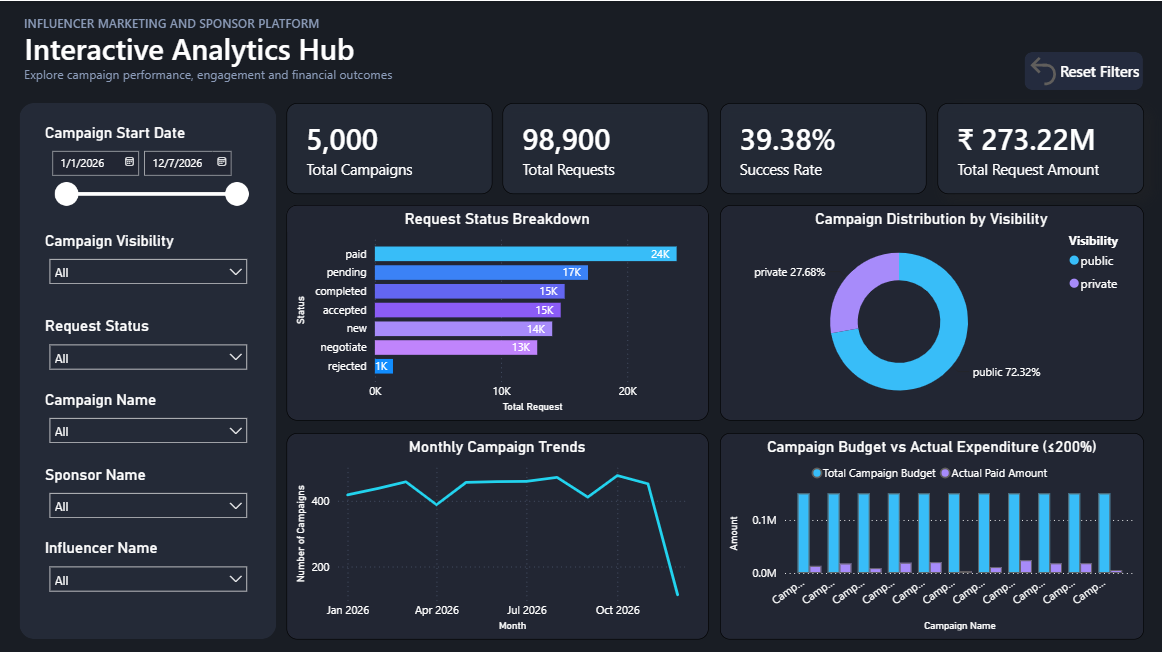

The page's visual inventory and layout, read from the dashboard file:
{"tool":"powerbi","page":{"name":"  Interactive Analytics Hub","canvas":[1280,720],"ordinal":4},"visuals":[{"type":"textbox","box":[0,25,398.3,53.3],"z":0},{"type":"textbox","box":[21.7,10,376.7,28.3],"z":1000},{"type":"textbox","box":[21.7,66.7,426.7,63.3],"z":2000},{"type":"cardVisual","fields":{"Data":["Measure.Hub Success Rate"]},"box":[790,111.7,226.7,100],"z":3000},{"type":"cardVisual","fields":{"Data":["Measure.Hub Total Requests"]},"box":[551.7,111.7,226,100],"z":4000},{"type":"cardVisual","fields":{"Data":["Measure.Hub Request Value"]},"box":[1028.3,111.7,226.7,100],"z":5000},{"type":"cardVisual","fields":{"Data":["Measure.Total Campaigns"]},"box":[315,111.7,226,100],"z":6000},{"type":"shape","box":[21.7,111.7,281.7,588.3],"z":7000},{"type":"slicer","title":"Campaign Start Date","fields":{"Values":["dim_campaigns.start_date"]},"box":[45,130,236.7,98.3],"z":8001},{"type":"slicer","title":"Campaign Visibility","fields":{"Values":["dim_campaigns.visibility"]},"box":[45,248.3,236.7,81.7],"z":8002},{"type":"slicer","title":"Request Status","fields":{"Values":["fact_ad_request.status"]},"box":[45,341.7,236.7,81.7],"z":8003},{"type":"slicer","title":"Campaign Name","fields":{"Values":["dim_campaigns.name"]},"box":[45,423.3,236.7,81.7],"z":8004},{"type":"slicer","title":"Sponsor Name","fields":{"Values":["dim_user.username"]},"box":[45,505,236.7,81.7],"z":8005},{"type":"slicer","title":"Influencer Name","fields":{"Values":["Influencer Slicer.username"]},"box":[45,586.7,236.7,81.7],"z":8006},{"type":"clusteredBarChart","title":"Request Status Breakdown","fields":{"Category":["fact_ad_request.status"],"Y":["Measure.Total Requests"]},"box":[315,223.3,463.3,236.7],"z":8007},{"type":"donutChart","title":"Campaign Distribution by Visibility","fields":{"Category":["dim_campaigns.visibility"],"Y":["CountNonNull(dim_campaigns.campaign_id)"]},"box":[790,223.3,465,236.7],"z":8008},{"type":"lineChart","title":"Monthly Campaign Trends","fields":{"Category":["dim_campaigns.start_date.Variation.Date Hierarchy.Year","dim_campaigns.start_date.Variation.Date Hierarchy.Month"],"Y":["Measure.Total Campaigns"]},"box":[315,473.3,463.3,226.7],"z":8009},{"type":"clusteredColumnChart","title":"Campaign Budget vs Actual Expenditure (≤200%)","fields":{"Category":["dim_campaigns.name"],"Y":["Measure.Total Campaign Budget","Measure.Actual Paid Amount"]},"box":[790,473.3,465,226.7],"z":8010},{"type":"actionButton","box":[1125,56.7,130,41.7],"z":8011}]}

Visuals, with their boxes in screenshot pixels (x1, y1, x2, y2), scaled from the page's 1280x720 canvas onto the 1162x652 screenshot:
textbox: detection(0, 23, 362, 71)
textbox: detection(20, 9, 362, 35)
textbox: detection(20, 60, 407, 118)
cardVisual - Measure.Hub Success Rate: detection(717, 101, 923, 192)
cardVisual - Measure.Hub Total Requests: detection(501, 101, 706, 192)
cardVisual - Measure.Hub Request Value: detection(934, 101, 1139, 192)
cardVisual - Measure.Total Campaigns: detection(286, 101, 491, 192)
shape: detection(20, 101, 275, 634)
"Campaign Start Date" slicer: detection(41, 118, 256, 207)
"Campaign Visibility" slicer: detection(41, 225, 256, 299)
"Request Status" slicer: detection(41, 309, 256, 383)
"Campaign Name" slicer: detection(41, 383, 256, 457)
"Sponsor Name" slicer: detection(41, 457, 256, 531)
"Influencer Name" slicer: detection(41, 531, 256, 605)
"Request Status Breakdown" clusteredBarChart: detection(286, 202, 707, 417)
"Campaign Distribution by Visibility" donutChart: detection(717, 202, 1139, 417)
"Monthly Campaign Trends" lineChart: detection(286, 429, 707, 634)
"Campaign Budget vs Actual Expenditure (≤200%)" clusteredColumnChart: detection(717, 429, 1139, 634)
actionButton: detection(1021, 51, 1139, 89)
